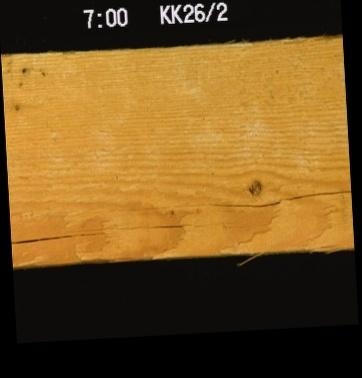small_knot: (10, 100, 19, 112)
sound_knot: (244, 176, 261, 195)
split: (9, 219, 239, 243), (94, 196, 349, 211)
